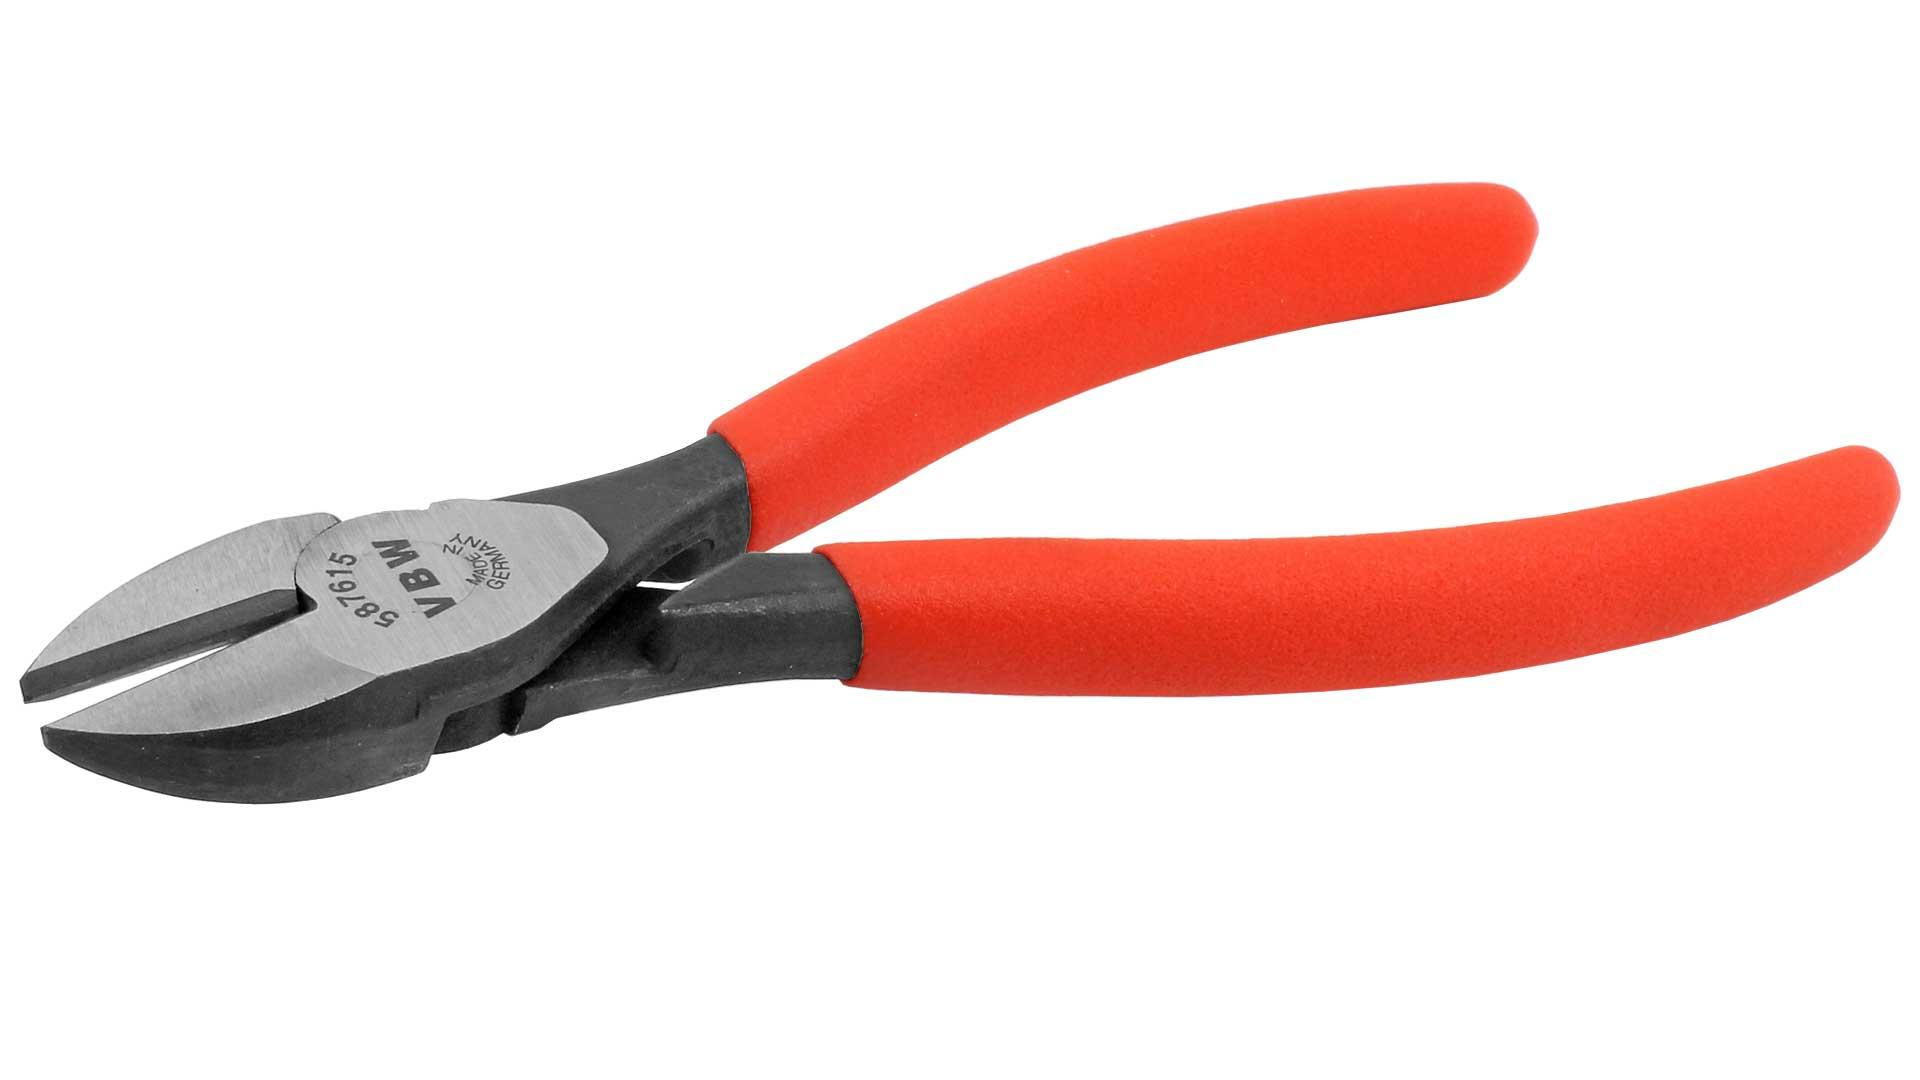Pliers: (22, 150, 1920, 829)
